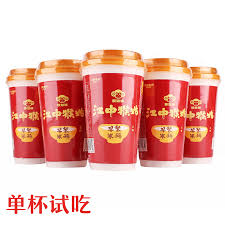cup: (82, 49, 146, 171), (140, 58, 189, 167), (37, 60, 86, 167), (184, 66, 219, 163), (8, 69, 42, 163)
